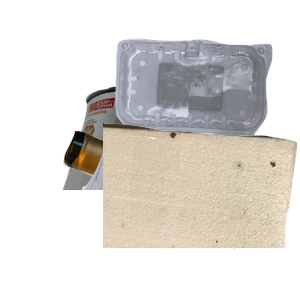glass: (60, 128, 300, 300)
metal: (60, 82, 300, 262)
plastic: (80, 36, 300, 216)
trash: (103, 120, 300, 300)
